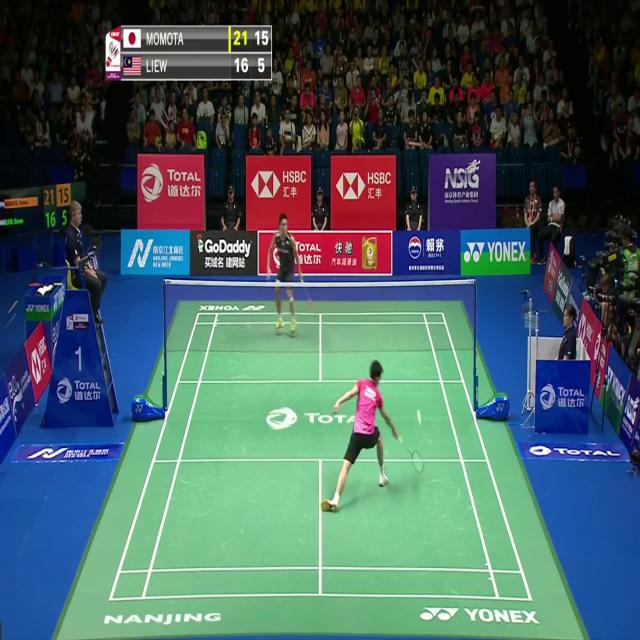Shuttlecock: (416, 412, 422, 424)
